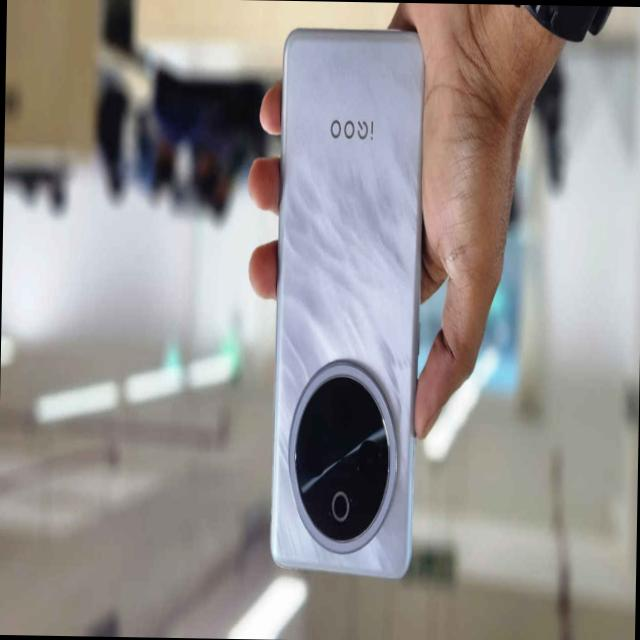mobile_phone: (267, 13, 427, 598)
